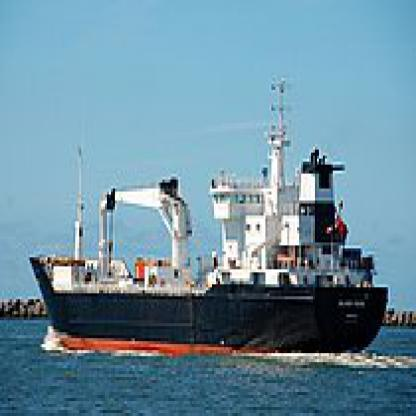Container Ship: (27, 75, 389, 356)
